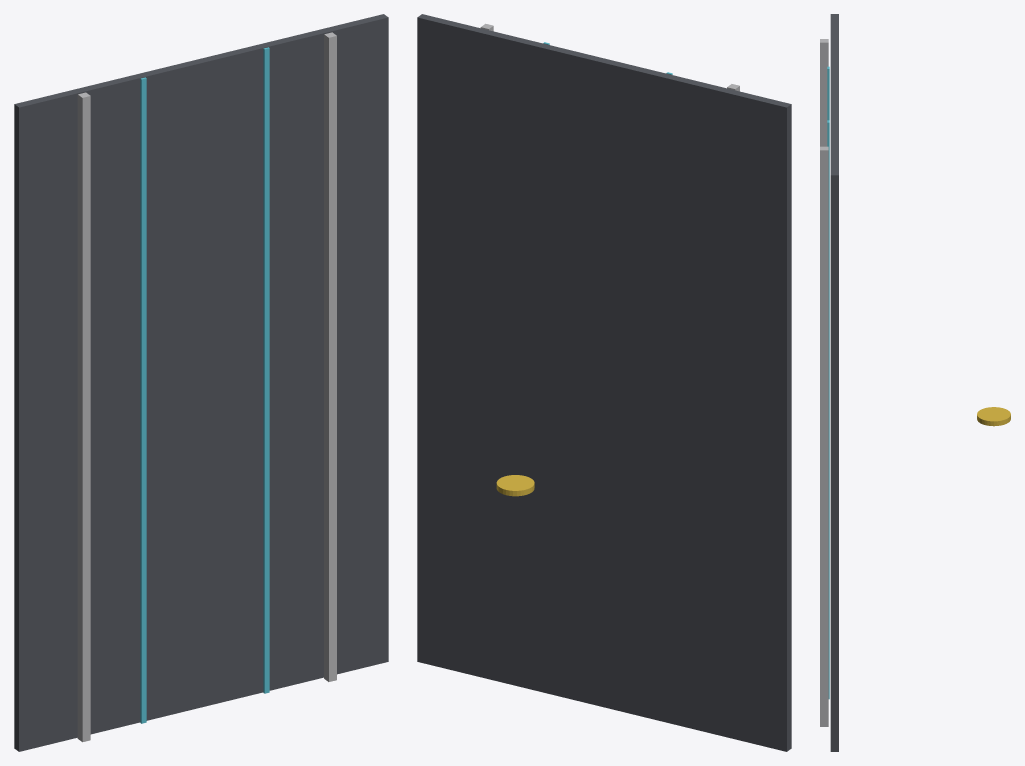
File: stage_meme_metro_track_segment.glb
The picture shows the model from 3 angles, left to right: view 1: azimuth 30°, elevation 25°; view 2: azimuth 150°, elevation 25°; view 3: azimuth 270°, elevation 25°; orthographic projection. The views are drawn at different scales.
Visible parts, largest first — view 1: track_base, rail_l, rail_r, lane_l, lane_r; view 2: track_base, coin_sample; view 3: track_base, rail_r, lane_r, rail_l, coin_sample.
Boxes of the visible parts, bbox=[...] form: track_base: bbox=[14, 14, 388, 751]; rail_l: bbox=[77, 92, 90, 742]; rail_r: bbox=[324, 32, 336, 681]; lane_l: bbox=[140, 77, 146, 723]; lane_r: bbox=[263, 47, 269, 693]; track_base: bbox=[417, 14, 791, 751]; coin_sample: bbox=[496, 475, 534, 496]; track_base: bbox=[830, 14, 838, 751]; rail_r: bbox=[820, 146, 828, 726]; lane_r: bbox=[827, 120, 829, 699]; rail_l: bbox=[820, 39, 828, 146]; coin_sample: bbox=[977, 407, 1010, 426].
Size of the model in its own units: 3.6 by 6 by 1.8.
